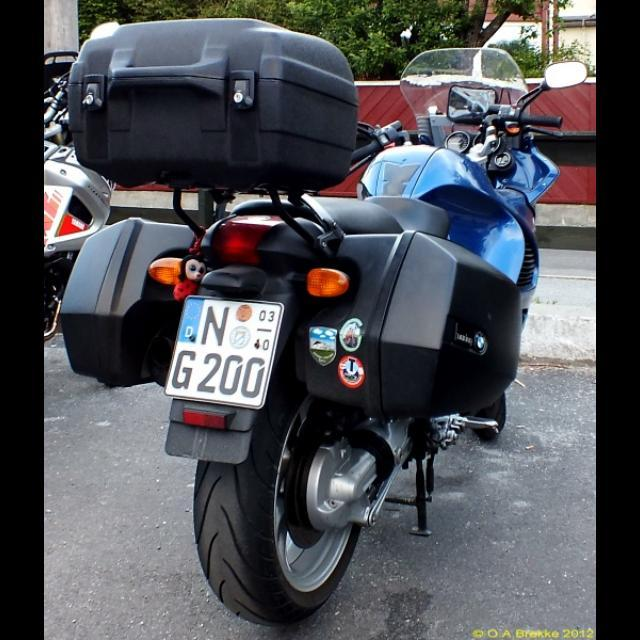license-plates: (166, 297, 284, 410)
